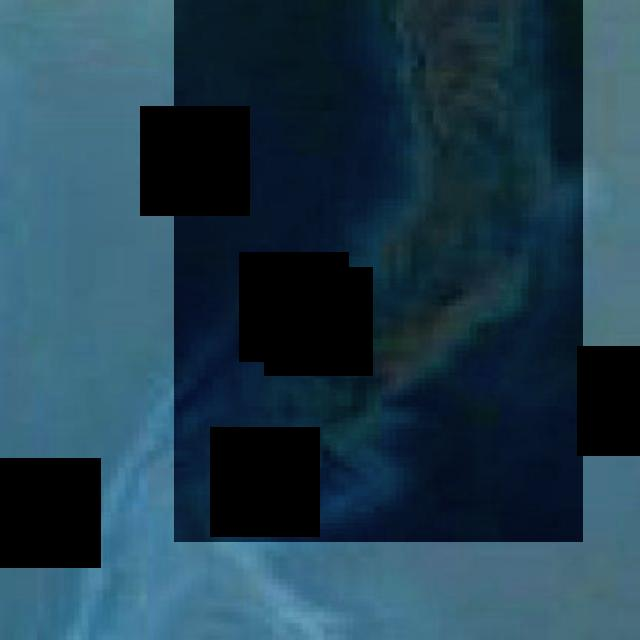oil spill: (175, 0, 583, 542)
